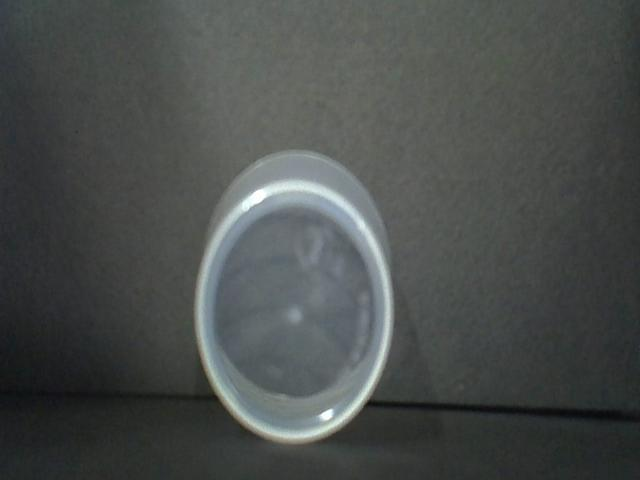cup: (192, 143, 401, 456)
